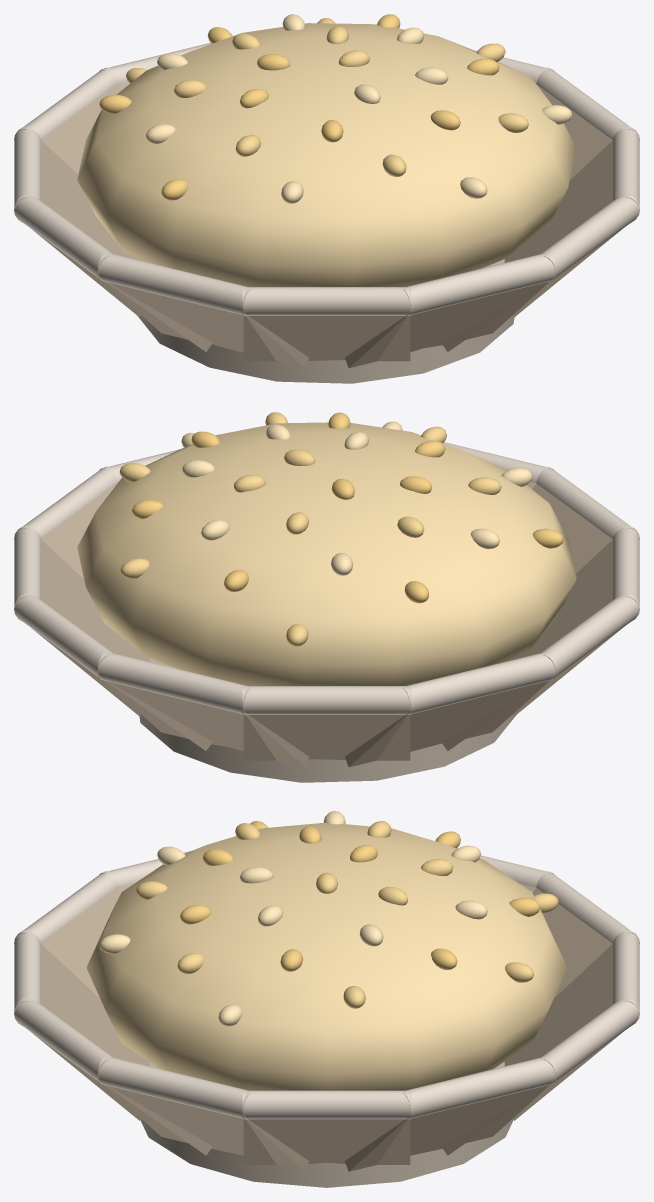
Rendered from CMU3DFoodRicePuddingCloud.glb.
3 renders of one model, top to bottom at view 1: azimuth 30°, elevation 25°; view 2: azimuth 150°, elevation 25°; view 3: azimuth 270°, elevation 25°, orthographic.
Parts seen in each view (by area): view 1: rounded rice pudding mound, closed ceramic basin floor, flared hollow ceramic wall 09, rolled ceramic rim 09, flared hollow ceramic wall 08, flared hollow ceramic wall 10, flared hollow ceramic wall 12, rolled ceramic rim 08, rolled ceramic rim 10, flared hollow ceramic wall 06, rolled ceramic rim 07, rolled ceramic rim 11 (+9 smaller); view 2: rounded rice pudding mound, closed ceramic basin floor, flared hollow ceramic wall 05, rolled ceramic rim 05, flared hollow ceramic wall 06, flared hollow ceramic wall 04, flared hollow ceramic wall 02, rolled ceramic rim 04, rolled ceramic rim 06, flared hollow ceramic wall 08, rolled ceramic rim 03, rolled ceramic rim 07 (+9 smaller); view 3: rounded rice pudding mound, closed ceramic basin floor, flared hollow ceramic wall 01, rolled ceramic rim 01, flared hollow ceramic wall 04, flared hollow ceramic wall 10, flared hollow ceramic wall 02, flared hollow ceramic wall 12, rolled ceramic rim 02, rolled ceramic rim 12, flared hollow ceramic wall 09, rolled ceramic rim 03 (+10 smaller).
Part boxes in pixels (box(x1,y1,x2,y2)): rounded rice pudding mound: box(77, 23, 576, 286); closed ceramic basin floor: box(137, 259, 514, 383); flared hollow ceramic wall 09: box(243, 316, 410, 361); rolled ceramic rim 09: box(242, 287, 411, 315); flared hollow ceramic wall 08: box(105, 282, 308, 368); flared hollow ceramic wall 10: box(345, 282, 548, 368); flared hollow ceramic wall 12: box(504, 140, 620, 316); rolled ceramic rim 08: box(97, 253, 250, 316); rolled ceramic rim 10: box(403, 253, 556, 316); flared hollow ceramic wall 06: box(33, 140, 145, 316); rolled ceramic rim 07: box(14, 194, 112, 282); rolled ceramic rim 11: box(541, 194, 639, 282); rounded rice pudding mound: box(77, 422, 576, 685); closed ceramic basin floor: box(139, 658, 515, 782); flared hollow ceramic wall 05: box(243, 715, 410, 760); rolled ceramic rim 05: box(242, 686, 411, 714); flared hollow ceramic wall 06: box(345, 681, 549, 767); flared hollow ceramic wall 04: box(104, 681, 308, 767); flared hollow ceramic wall 02: box(33, 539, 149, 716); rolled ceramic rim 04: box(97, 652, 250, 715); rolled ceramic rim 06: box(403, 652, 556, 715); flared hollow ceramic wall 08: box(508, 539, 620, 716); rolled ceramic rim 03: box(14, 593, 112, 681); rolled ceramic rim 07: box(541, 593, 639, 681); rounded rice pudding mound: box(86, 822, 567, 1090); closed ceramic basin floor: box(140, 1062, 513, 1187); flared hollow ceramic wall 01: box(243, 1119, 410, 1164); rolled ceramic rim 01: box(242, 1090, 411, 1119); flared hollow ceramic wall 04: box(504, 944, 620, 1120); flared hollow ceramic wall 10: box(33, 944, 149, 1120); flared hollow ceramic wall 02: box(345, 1085, 549, 1171); flared hollow ceramic wall 12: box(104, 1085, 308, 1171); rolled ceramic rim 02: box(403, 1057, 556, 1119); rolled ceramic rim 12: box(97, 1057, 250, 1119); flared hollow ceramic wall 09: box(41, 888, 120, 997); rolled ceramic rim 03: box(541, 997, 639, 1085).
Size of the model in its own units: 0.7325 by 0.3335 by 0.7325.
